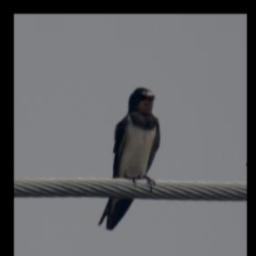Swallow: (97, 86, 160, 230)
